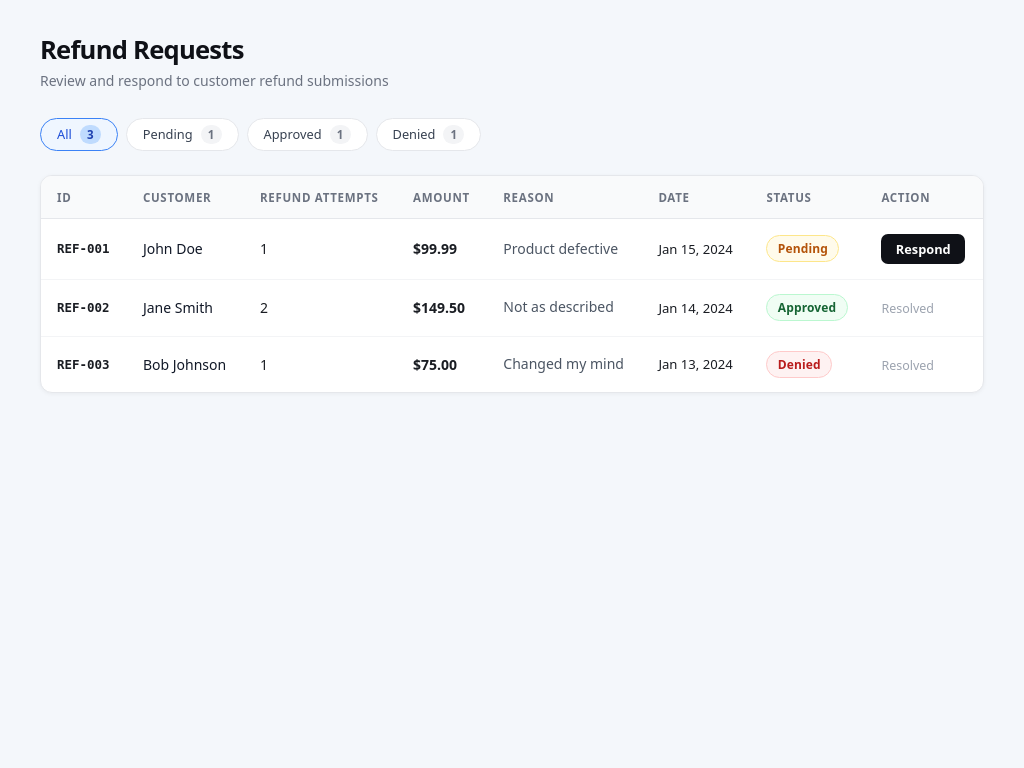
Test case: RefundsPage › submits approval successfully
Check: the text "REF-001" is shown, box [41,219,127,279]
Click the button "Respond": (923, 249) [881,234,965,264]
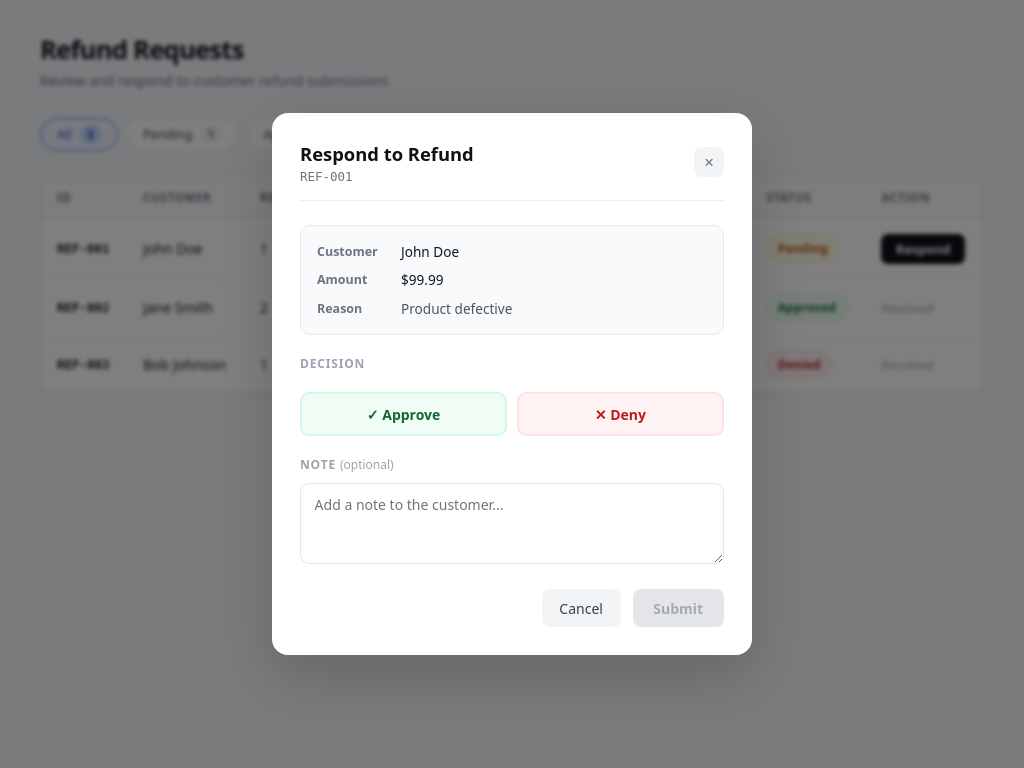
Click the button "✓ Approve": (404, 414) [300,392,507,436]
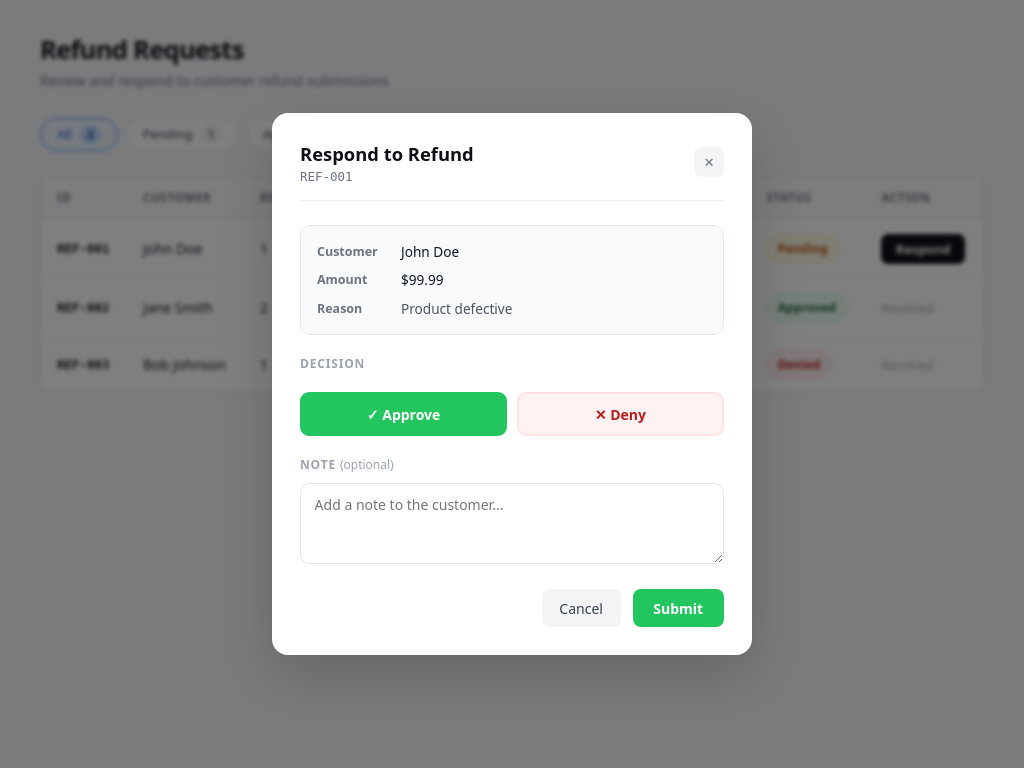
Click the button "Submit": (678, 608) [632,589,724,627]
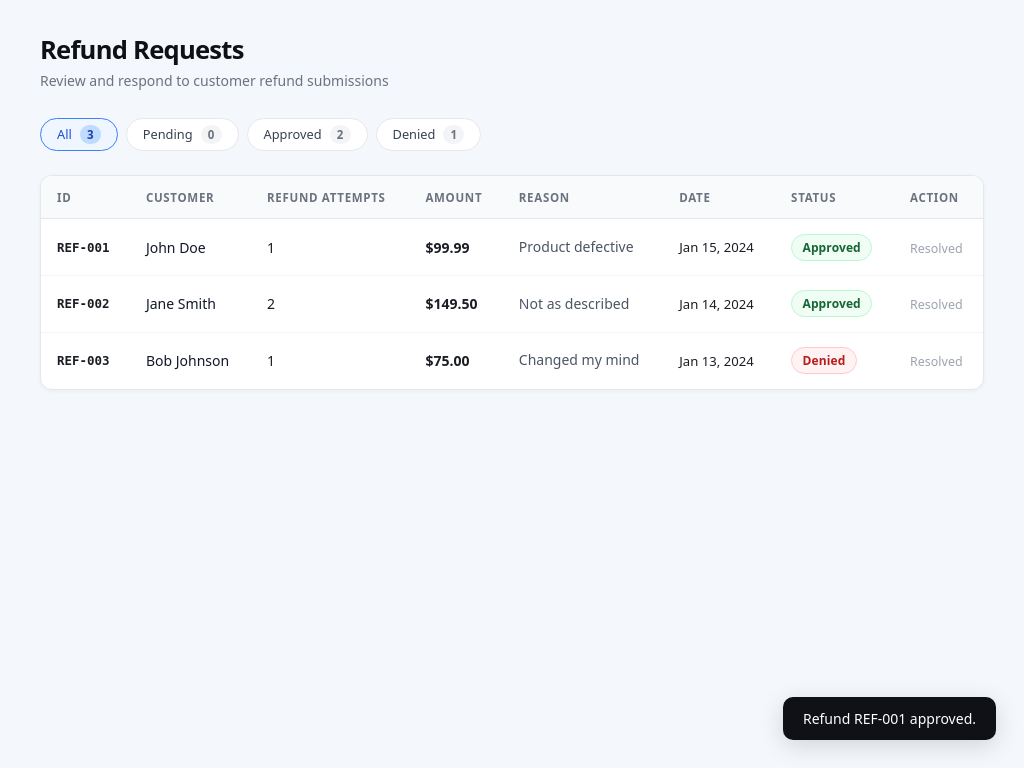
Check: the text "Refund REF-001 approved." is shown, box [783,697,996,740]
